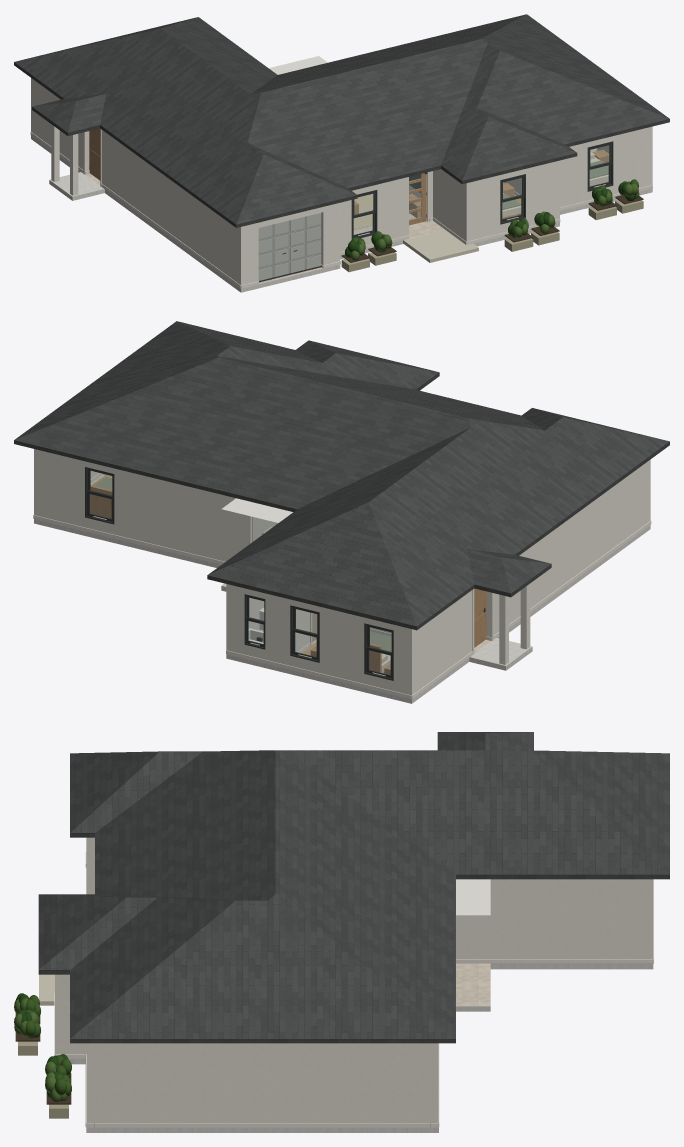
The model's file is utah-finished-v4.glb.
3 renders of one model, top to bottom at view 1: azimuth 30°, elevation 25°; view 2: azimuth 150°, elevation 25°; view 3: azimuth 270°, elevation 25°, orthographic. The views are drawn at different scales.
Visible parts, largest first — view 1: 165 Componente#83, 075 Componente#3, Garaje · paneles seccionales y herrajes (×2), 085 Componente#13, 083 Componente#11, 073 Componente#1, 079 Componente#7, 082 Componente#10, Utah · rodapiés continuos, Acceso piedra, 077 Componente#5, 076 Componente#4 (+7 smaller); view 2: 165 Componente#83, 086 Componente#14, 075 Componente#3, 074 Componente#2, 073 Componente#1, Utah · rodapiés continuos, Utah · cielo raso a 8 ft, Utah · puerta 135, 166 Componente#84, 167 Componente#85, Cabecero roble; view 3: 165 Componente#83, 088 Componente#16, 087 Componente#15, 073 Componente#1, Utah · rodapiés continuos, Utah · pavimento área social, Utah · cielo raso a 8 ft, 084 Componente#12, 074 Componente#2, 083 Componente#11, 085 Componente#13, 086 Componente#14.
Part boxes in pixels (x1,y1,x2,y2): 165 Componente#83: (14, 14, 669, 227); 075 Componente#3: (34, 80, 246, 285); Garaje · paneles seccionales y herrajes (×2): (258, 212, 321, 282); 085 Componente#13: (560, 126, 652, 207); 083 Componente#11: (472, 160, 559, 240); 073 Componente#1: (31, 135, 652, 292); 079 Componente#7: (340, 177, 408, 251); 082 Componente#10: (433, 169, 471, 241); Utah · rodapiés continuos: (30, 131, 652, 288); Acceso piedra: (403, 230, 478, 262); 077 Componente#5: (321, 203, 340, 265); 076 Componente#4: (246, 207, 323, 283); 165 Componente#83: (14, 321, 669, 630); 086 Componente#14: (34, 449, 251, 561); 075 Componente#3: (415, 459, 650, 692); 074 Componente#2: (226, 584, 415, 695); 073 Componente#1: (34, 519, 650, 703); Utah · rodapiés continuos: (33, 473, 651, 699); Utah · cielo raso a 8 ft: (221, 498, 292, 522); Utah · puerta 135: (474, 588, 486, 647); 166 Componente#84: (499, 594, 508, 664); 167 Componente#85: (520, 583, 530, 649); Cabecero roble: (90, 485, 112, 518); 165 Componente#83: (38, 732, 669, 1043); 088 Componente#16: (94, 1043, 430, 1122); 087 Componente#15: (456, 879, 644, 959); 073 Componente#1: (68, 964, 653, 1132); Utah · rodapiés continuos: (54, 852, 653, 1127); Utah · pavimento área social: (456, 963, 490, 1005); Utah · cielo raso a 8 ft: (456, 879, 490, 915); 084 Componente#12: (63, 974, 86, 1054); 074 Componente#2: (645, 879, 653, 959); 083 Componente#11: (55, 974, 63, 1054); 085 Componente#13: (86, 1043, 94, 1122); 086 Componente#14: (430, 1043, 438, 1122).
Bounding box in the file's own units: 17.58 × 4.59 × 15.88.
Materials: 61 (26 with a texture image).
